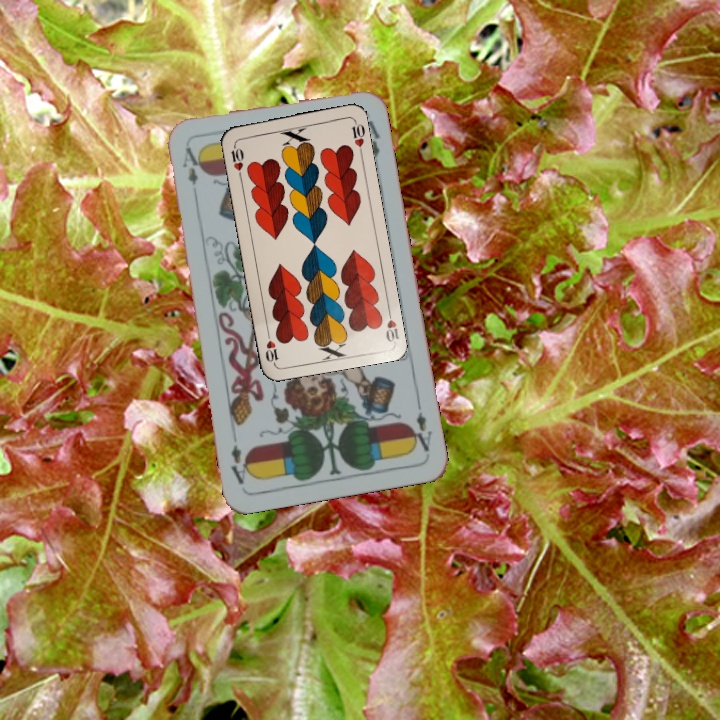EA: (406, 397, 435, 454), (178, 143, 201, 202)
H10: (226, 139, 246, 180), (382, 304, 401, 344)
